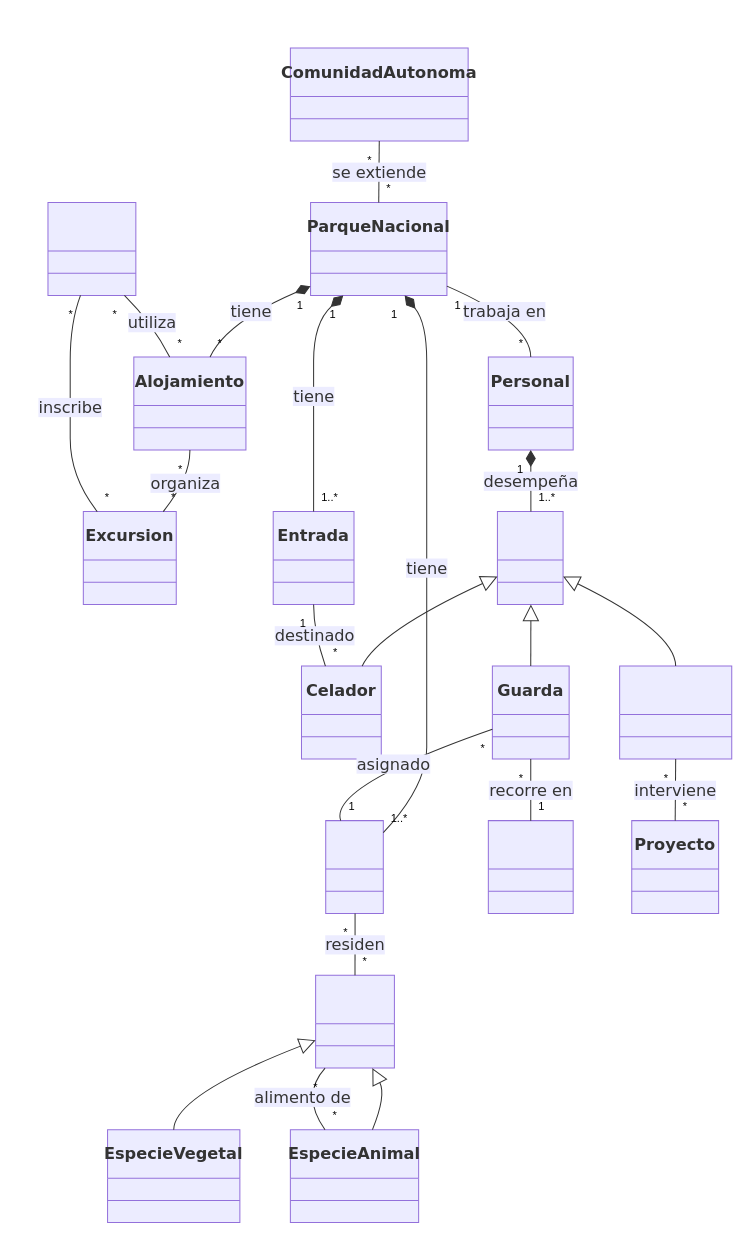
This 750x1240 diagram has some shape labels left out. Here are the shapes that lost their labels. From the top down, the centre of each, then its label:
(91,248): Visitante
(529,557): Cargo
(675,712): Investigador
(354,867): Area
(530,867): Vehiculo
(354,1021): Especie
